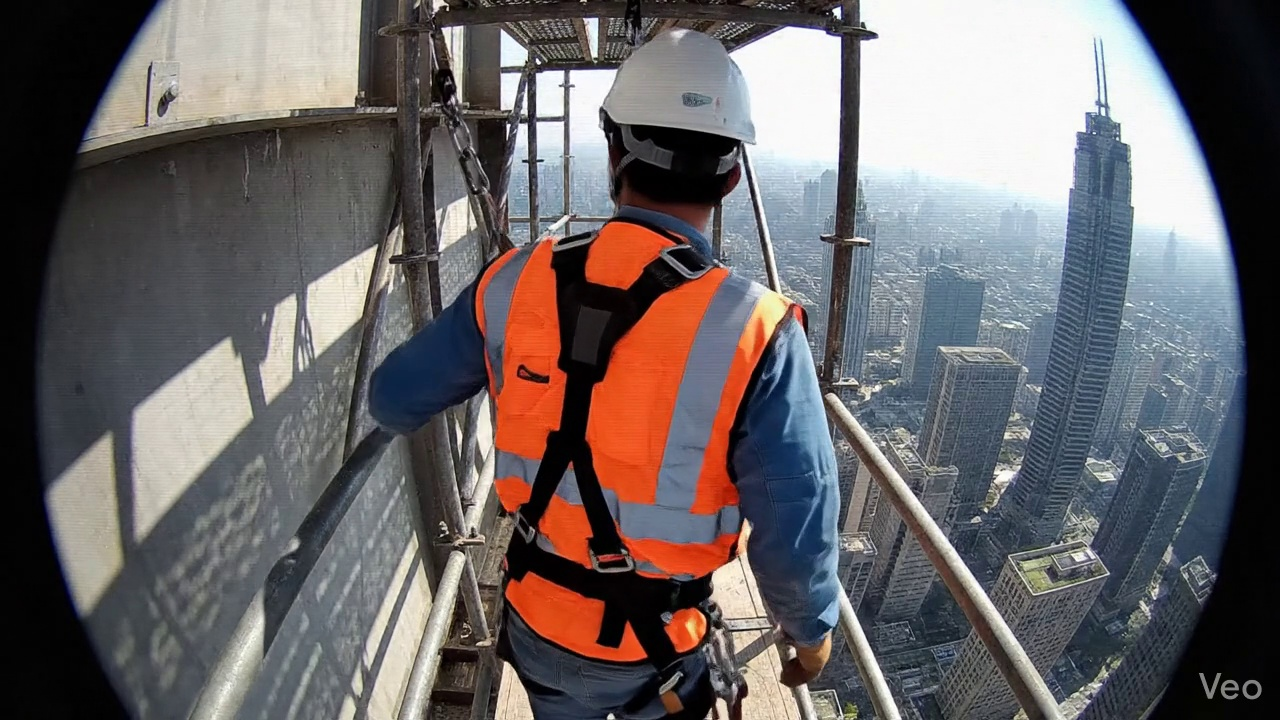person: (368, 30, 840, 719)
